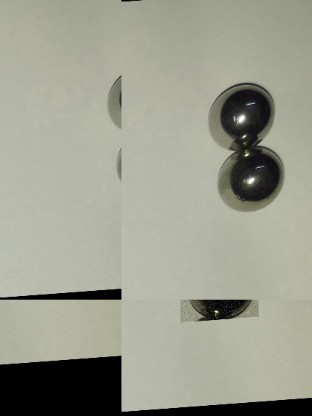ironball: (205, 145, 284, 211), (207, 81, 277, 150), (179, 299, 258, 324), (104, 71, 121, 126)
